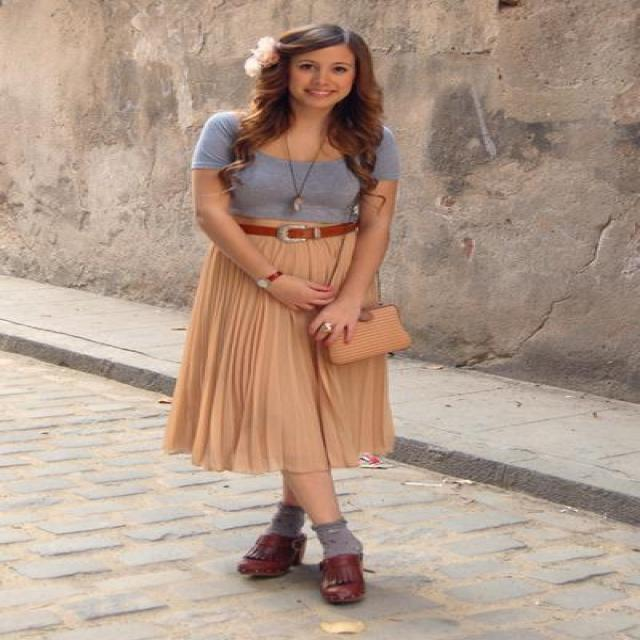bag: (330, 308, 410, 364)
shirt: (192, 120, 427, 232)
shoe: (238, 535, 364, 607)
skirt: (141, 237, 395, 549)
